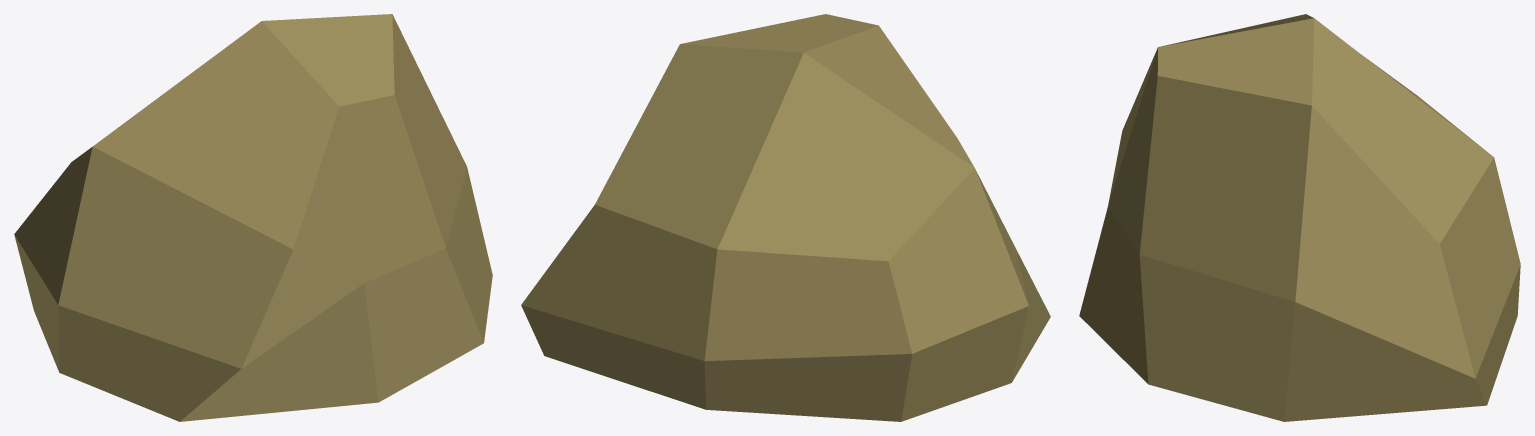
The model's file is Lava_Rock_2.FBX.
3 renders of one model, left to right at view 1: azimuth 30°, elevation 25°; view 2: azimuth 150°, elevation 25°; view 3: azimuth 270°, elevation 25°, orthographic. The views are drawn at different scales.
Parts seen in each view (by area): view 1: Lava_Rock_2; view 2: Lava_Rock_2; view 3: Lava_Rock_2.
Part boxes in pixels (x1,y1,x2,y2): Lava_Rock_2: (14, 14, 492, 421); Lava_Rock_2: (521, 14, 1050, 421); Lava_Rock_2: (1079, 14, 1520, 421).
Size of the model in its own units: 20.3 by 13.22 by 17.77.
